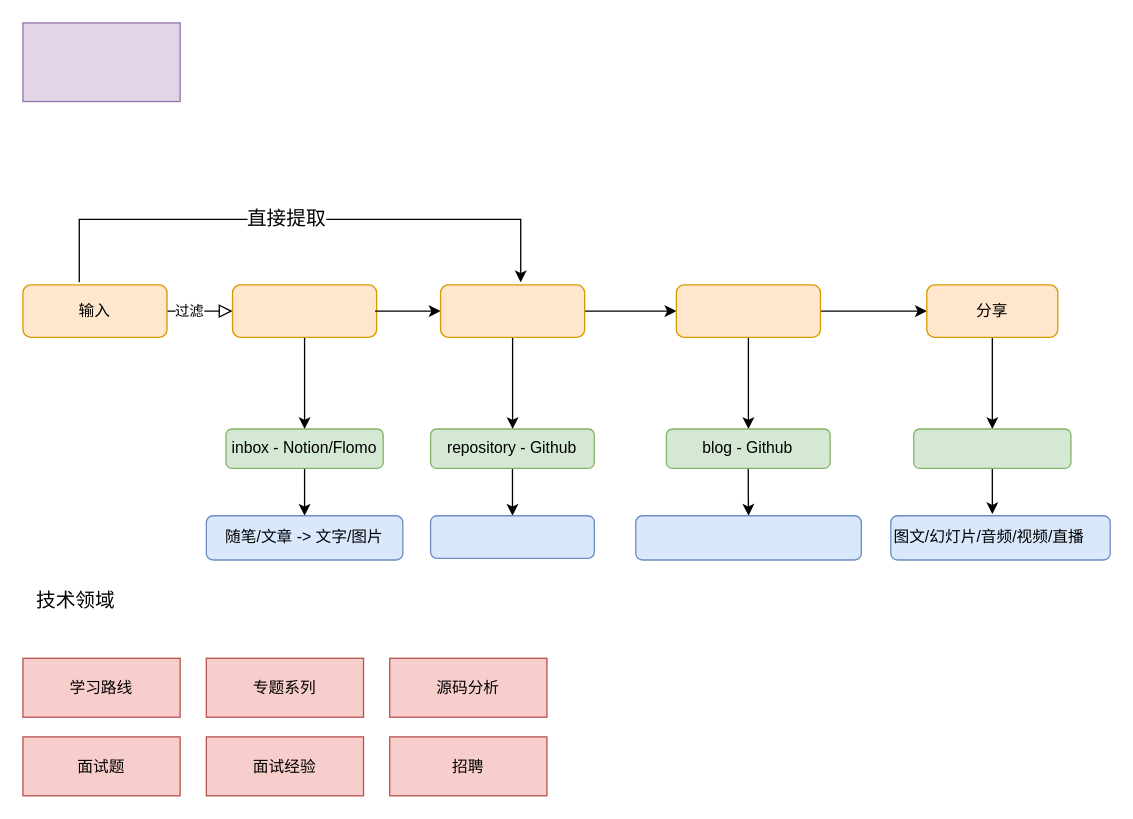
This 1133x819 diagram has some shape labels left out. The shapes that lost their labels are listed below. From the top down, each one's centre as x and y in pixels, then its label:
At [101,62]: "生活/学习/工作".
At [304,310]: "收集 & 提取".
At [512,310]: "存储加工处理".
At [747,310]: "输出".
At [991,448]: "自媒体平台".
At [511,536]: "文字/思维导图/流程图".
At [747,537]: "文章/图片/PPT/音频/视频".
